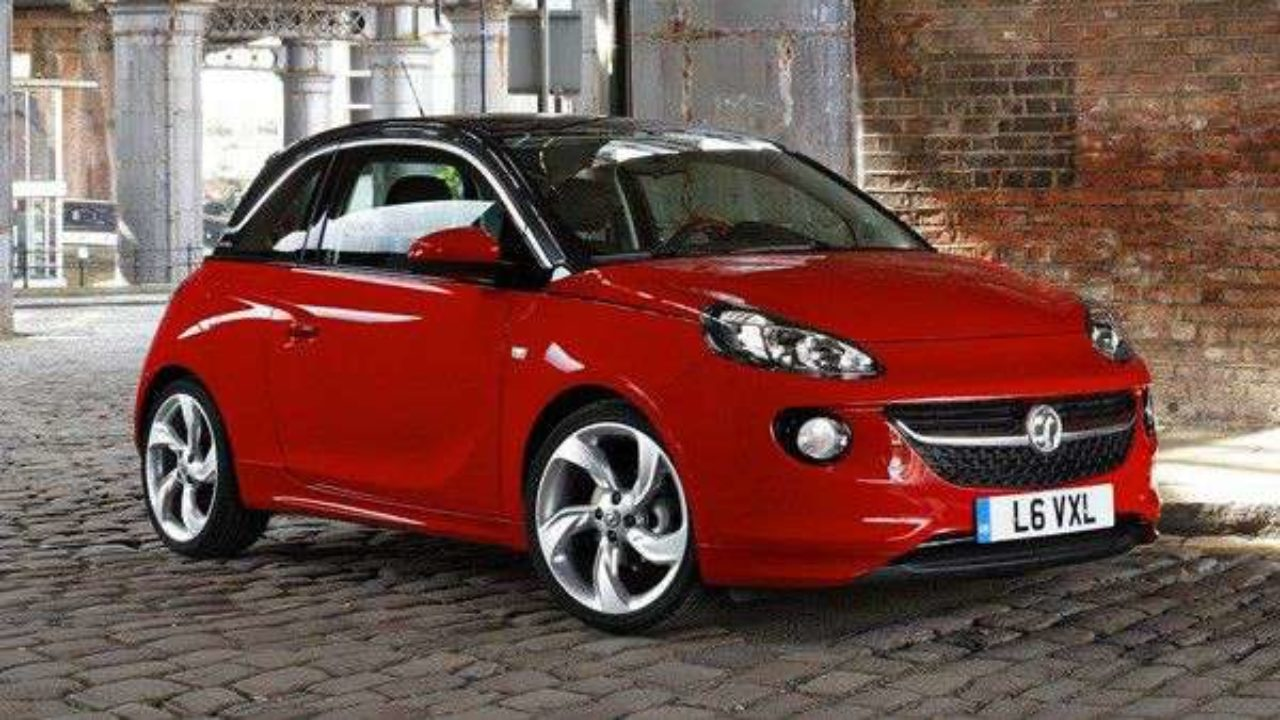car: (146, 98, 1169, 622)
